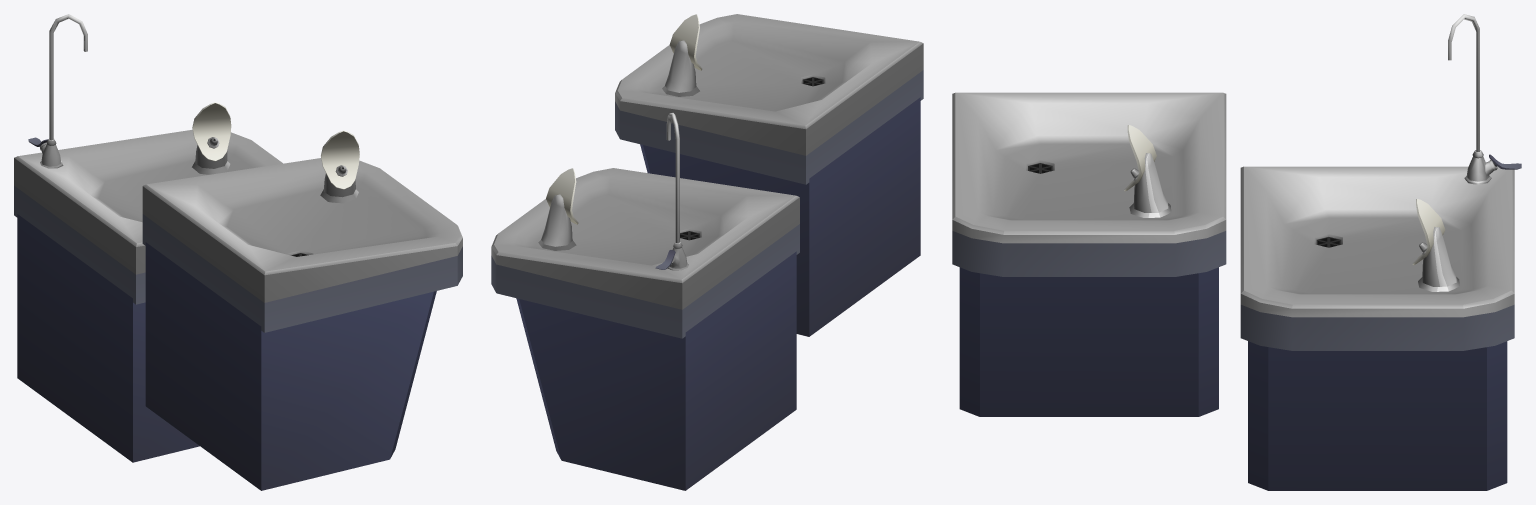
Rendered from CR_Drinking Fountain.FBX.
3 renders of one model, left to right at view 1: azimuth 30°, elevation 25°; view 2: azimuth 150°, elevation 25°; view 3: azimuth 270°, elevation 25°, orthographic. The views are drawn at different scales.
Visible parts, largest first — view 1: CR_Drinking Fountain; view 2: CR_Drinking Fountain; view 3: CR_Drinking Fountain.
Part boxes in pixels (x1,y1,x2,y2): CR_Drinking Fountain: [14, 14, 462, 490]; CR_Drinking Fountain: [491, 14, 923, 490]; CR_Drinking Fountain: [952, 14, 1521, 490].
Bounding box in the file's own units: 41.71 × 68.27 × 84.66.
Materials: 1 (1 with a texture image).
